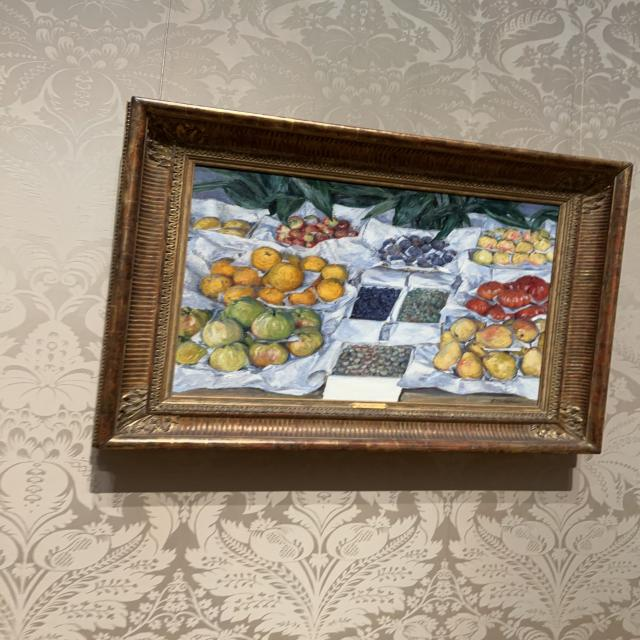fruits: (180, 171, 553, 402)
